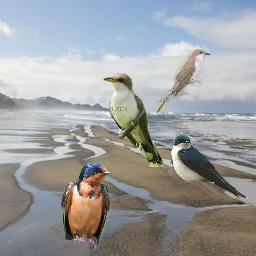Cuckoo: (103, 72, 163, 167), (156, 49, 211, 113)
Swallow: (171, 134, 247, 199), (61, 162, 113, 251)
